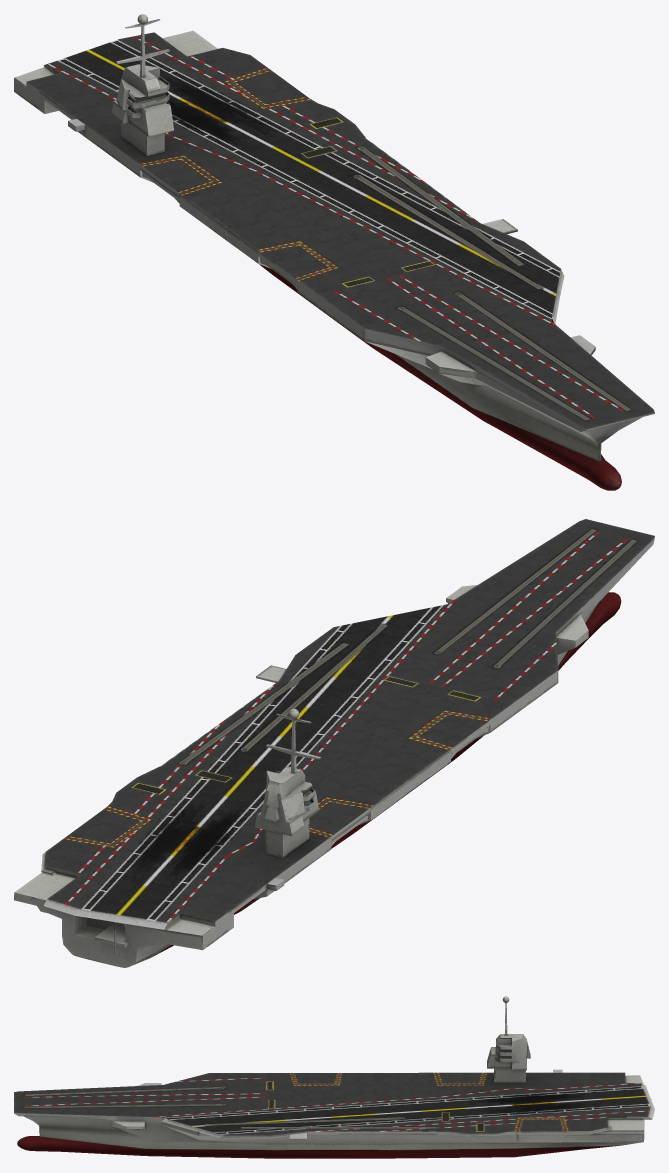
File: carrier.glb
The picture shows the model from 3 angles, top to bottom: view 1: azimuth 30°, elevation 25°; view 2: azimuth 150°, elevation 25°; view 3: azimuth 270°, elevation 25°; orthographic projection. The views are drawn at different scales.
Parts seen in each view (by area): view 1: Gerald Body_Gerald Ford_0; view 2: Gerald Body_Gerald Ford_0; view 3: Gerald Body_Gerald Ford_0.
Part boxes in pixels (x1,y1,x2,y2): Gerald Body_Gerald Ford_0: (14,14,654,490); Gerald Body_Gerald Ford_0: (14,519,654,967); Gerald Body_Gerald Ford_0: (14,996,654,1158).
Size of the model in its own units: 1336 by 1188 by 5290.
1 material, 1 textured.
